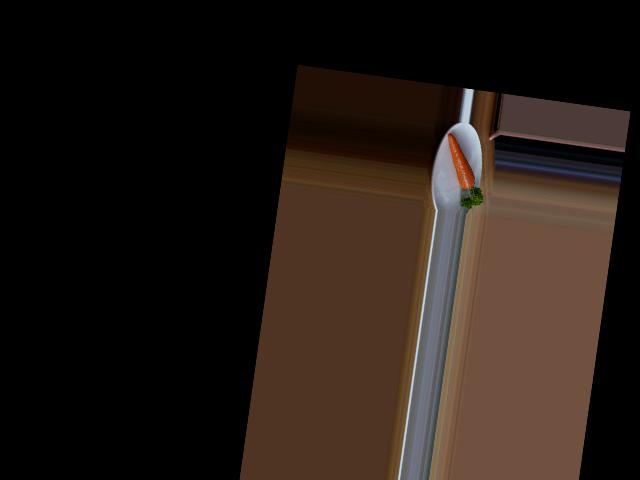carrot: (439, 130, 483, 196)
